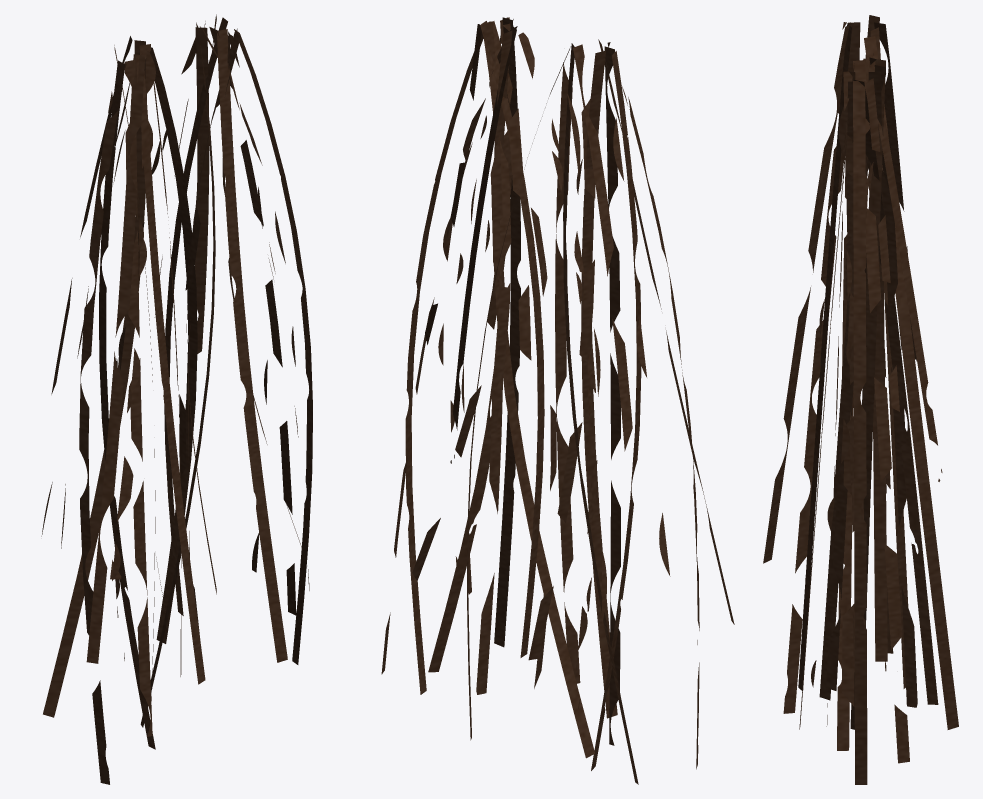
Rendered from test_haircard_v2_60.glb.
3 renders of one model, left to right at view 1: azimuth 30°, elevation 25°; view 2: azimuth 150°, elevation 25°; view 3: azimuth 270°, elevation 25°, orthographic. The views are drawn at different scales.
Parts seen in each view (by area): view 1: TestHairCardMesh; view 2: TestHairCardMesh; view 3: TestHairCardMesh.
Boxes of the visible parts, x1,y1,x2,y2 form: TestHairCardMesh: (41,14,312,784); TestHairCardMesh: (381,17,734,784); TestHairCardMesh: (763,15,958,784).
Bounding box in the file's own units: 0.2039 × 0.4545 × 0.1163.
1 material, 1 textured.
